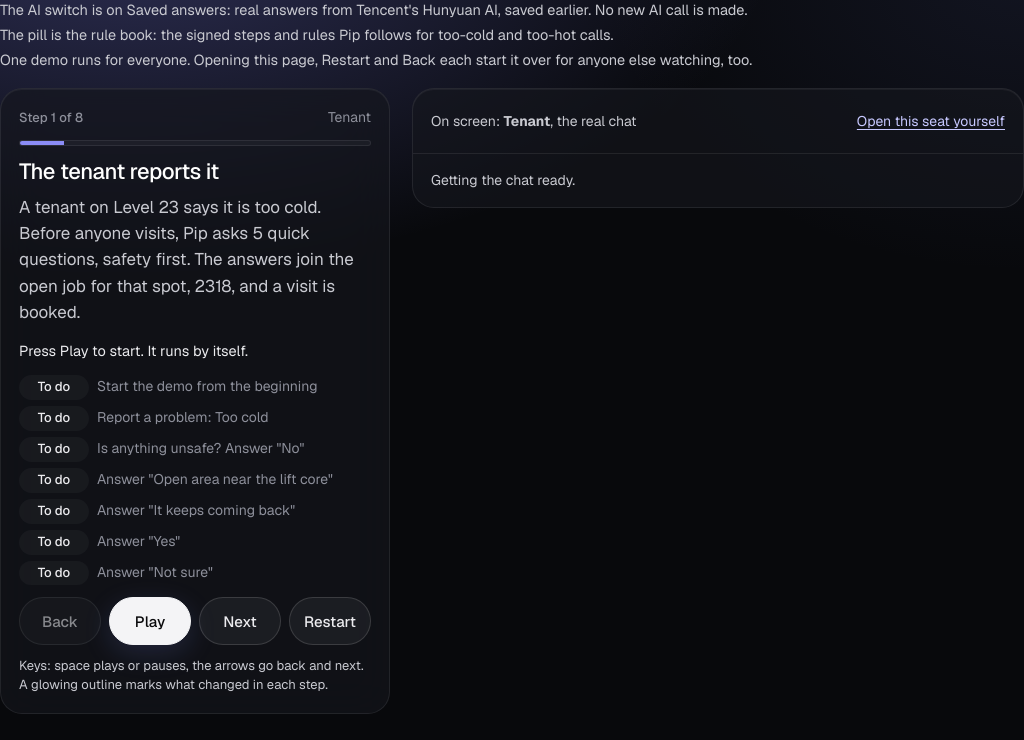
Test case: D2: Story mode plays the real app by itself › shows one seat at a time: the seat whose step it is, with the step's caption and n of 8
The image size is (1024, 740).
Expected: the text "A tenant on Level 23 says it is too cold. Before anyone visits, Pip asks 5 quick questions, safety first. The answers jo" is shown, [19,196,354,323]
Click the button "Next" at (240, 621), box [199,597,281,645]
(page scrolled)
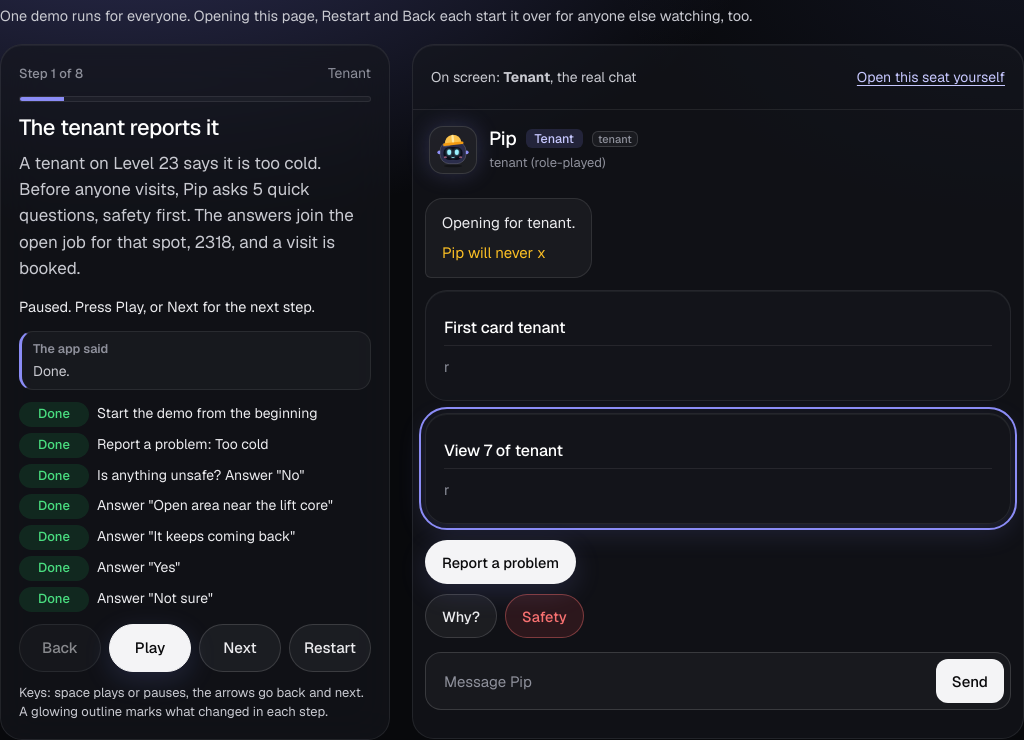
Expected: the element with test id "story-stage" has attribute data-phase="shown", [412,44,1023,739]
Expected: the element with test id "story-stage" has attribute data-seat="tenant", [412,44,1023,739]
Click the button "Next" at (240, 648), box [199,624,281,672]
(page scrolled)
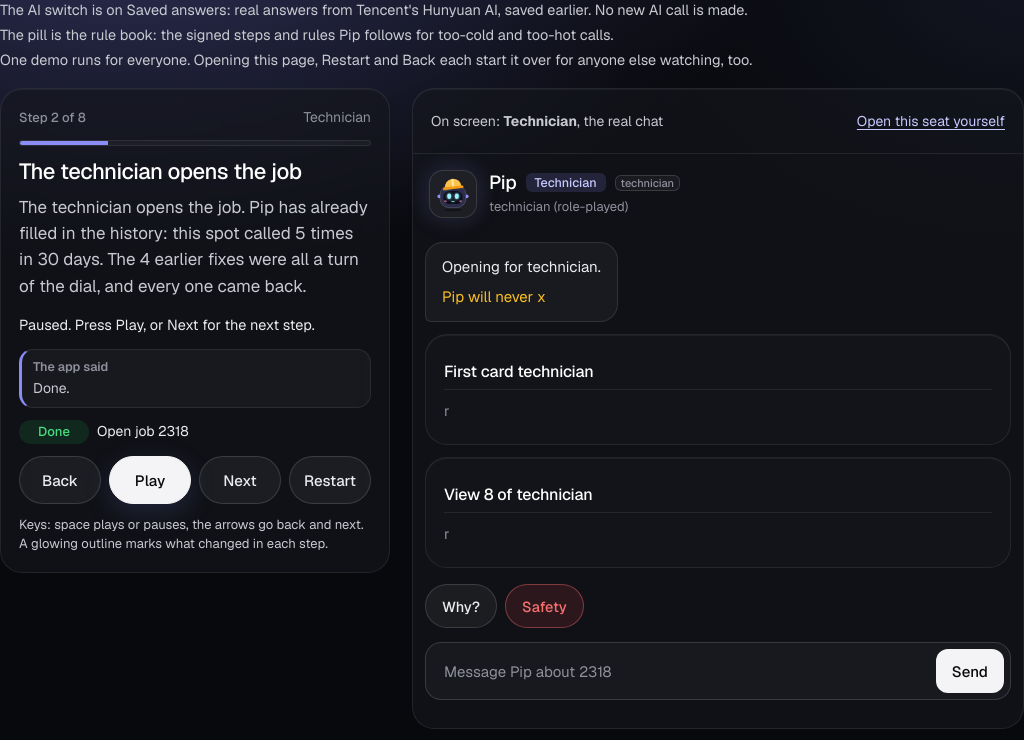
Expected: the text with test id "story-count" reads "Step 2 of 8", [19,109,86,126]
Expected: the text "The technician opens the job. Pip has already filled in the history: this spot called 5 times in 30 days. The 4 earlier " is shown, [19,196,368,297]
